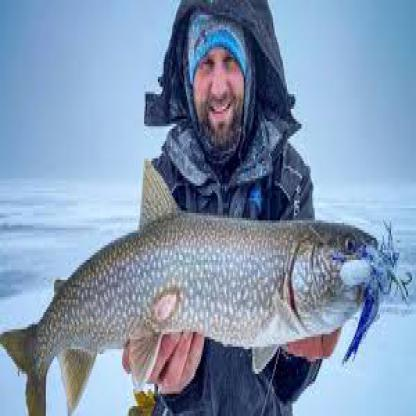fish: (0, 173, 387, 406)
